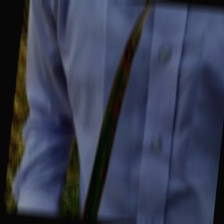Leaf_Blast: (106, 3, 142, 165)
